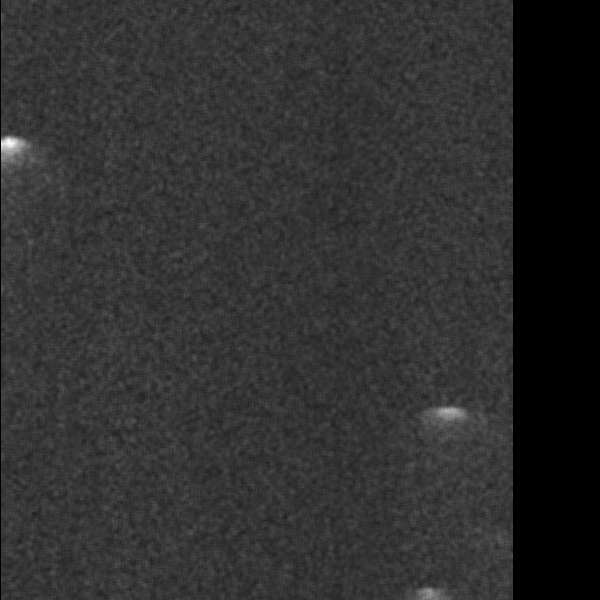spark: (418, 399, 480, 445), (1, 132, 19, 195), (406, 581, 449, 600)
